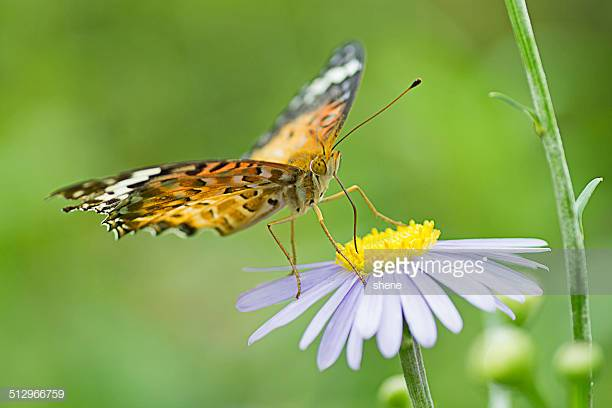Argyreus hyperbius: (31, 32, 428, 302)
butterfly: (33, 34, 430, 304)
